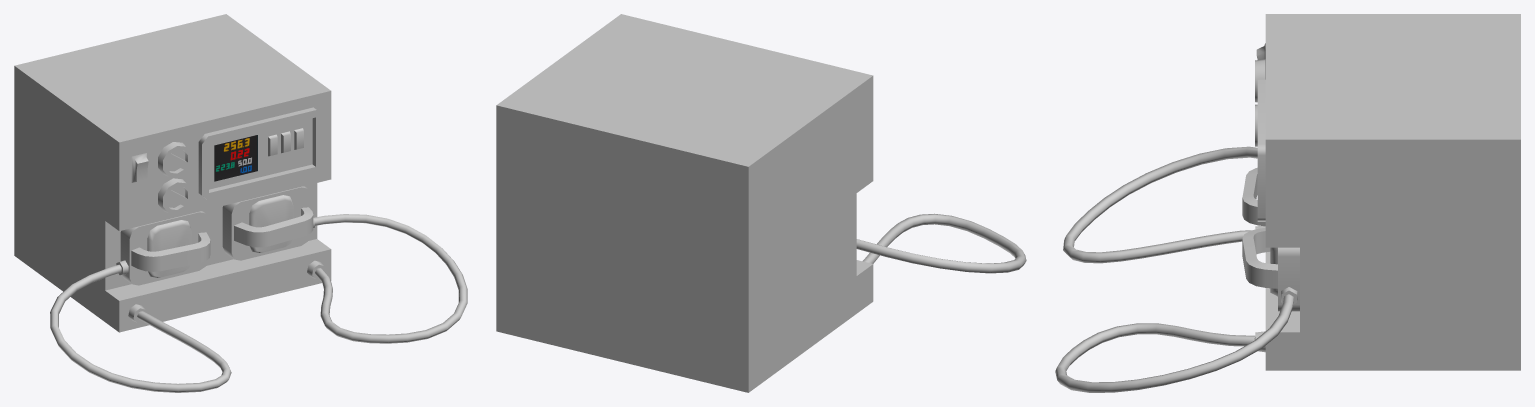
Rendered from Defibrillator_01.fbx.
3 renders of one model, left to right at view 1: azimuth 30°, elevation 25°; view 2: azimuth 150°, elevation 25°; view 3: azimuth 270°, elevation 25°, orthographic. The views are drawn at different scales.
Visible parts, largest first — view 1: Defibrillator_01; view 2: Defibrillator_01; view 3: Defibrillator_01.
Part boxes in pixels (bbox=[...]): Defibrillator_01: bbox=[14, 14, 467, 392]; Defibrillator_01: bbox=[496, 14, 1026, 392]; Defibrillator_01: bbox=[1055, 14, 1520, 392].
Bounding box in the file's own units: 62.93 × 54.77 × 29.99.
